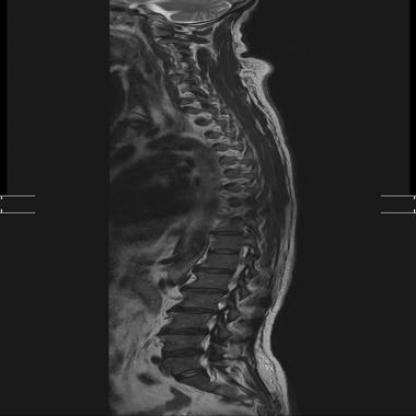Annular Tearrotation: (161, 347, 204, 362)
Disc Bulgerotation: (160, 326, 211, 341), (161, 346, 204, 361), (171, 304, 220, 317)
Disc Protrusionrotation: (185, 284, 227, 300), (164, 56, 183, 70)
